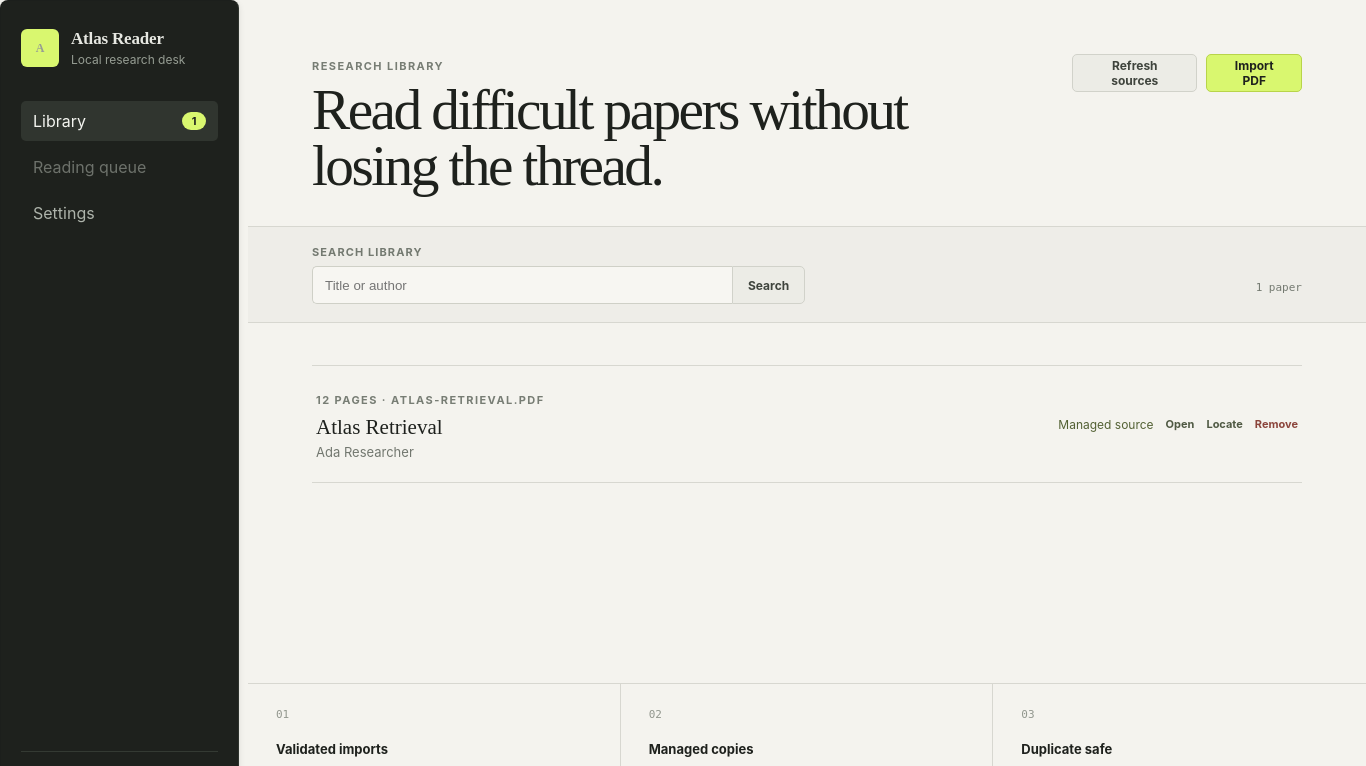
Test: App › continues polling after a transient parse-status failure
Expected: the button "Atlas Retrieval" is shown, [316, 415, 442, 440]
Click the button "Open" at [1180, 424], box [1166, 412, 1194, 436]
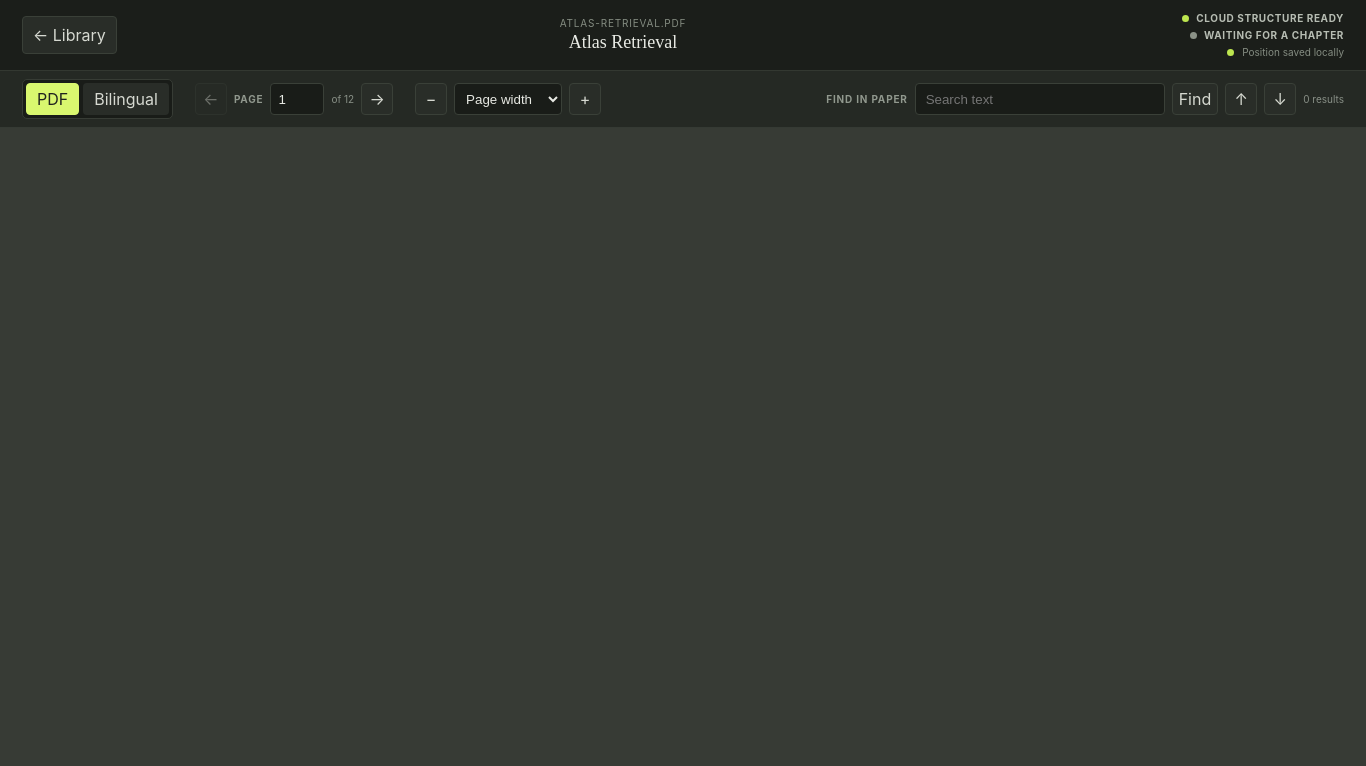
Expected: the text "Cloud structure ready" is shown, [1182, 12, 1344, 24]
